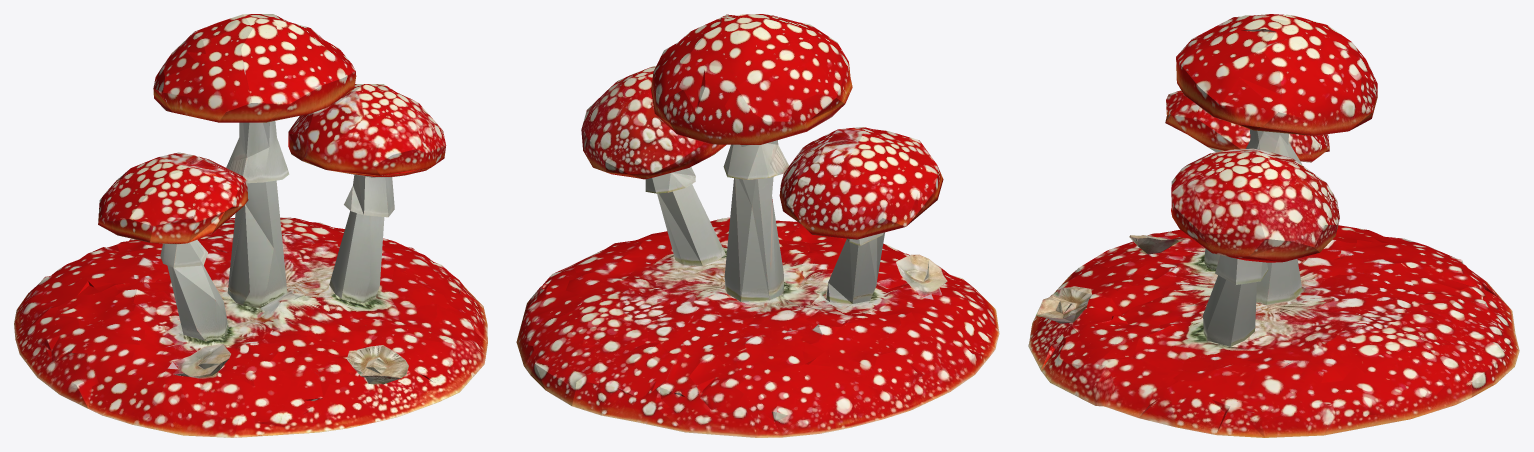
Rendered from mushroom_fly.glb.
3 renders of one model, left to right at view 1: azimuth 30°, elevation 25°; view 2: azimuth 150°, elevation 25°; view 3: azimuth 270°, elevation 25°, orthographic.
Bounding box in the file's own units: 1.71 × 1.23 × 1.73.
Materials: 1 (1 with a texture image).
